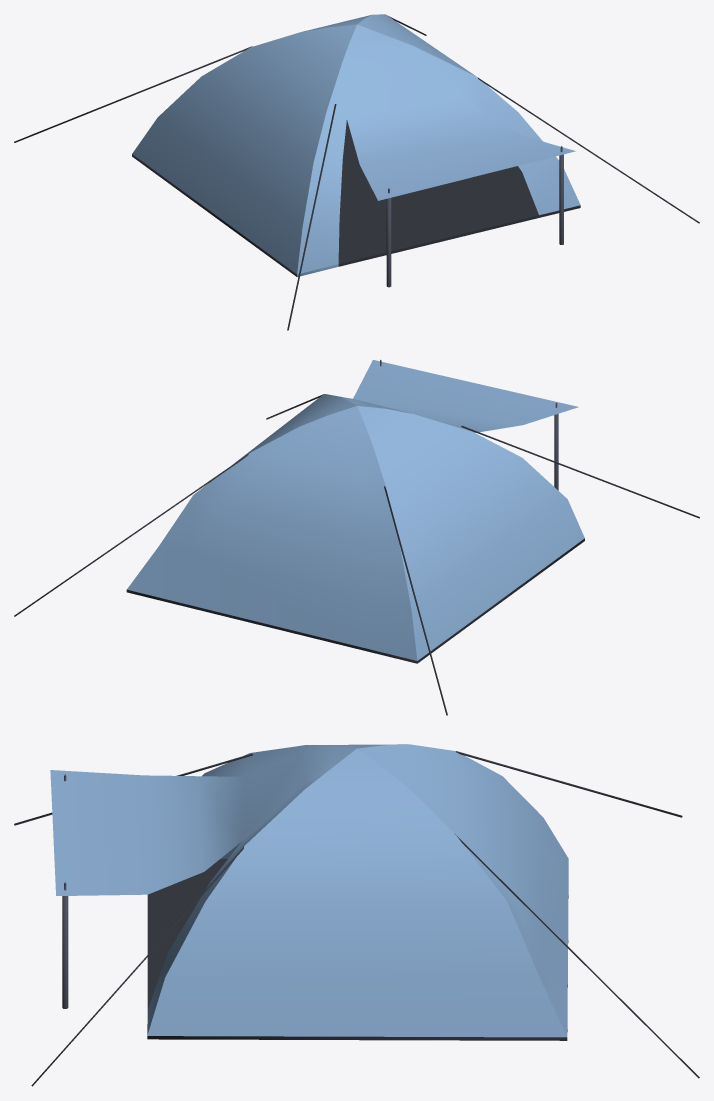
The model's file is Modern-Tent_02.fbx.
The picture shows the model from 3 angles, top to bottom: view 1: azimuth 30°, elevation 25°; view 2: azimuth 150°, elevation 25°; view 3: azimuth 270°, elevation 25°; orthographic projection. The views are drawn at different scales.
Parts seen in each view (by area): view 1: Modern-Tent_02; view 2: Modern-Tent_02; view 3: Modern-Tent_02.
Boxes of the visible parts, x1,y1,x2,y2 form: Modern-Tent_02: [14, 14, 699, 330]; Modern-Tent_02: [14, 359, 699, 715]; Modern-Tent_02: [14, 744, 699, 1086].
Size of the model in its own units: 3.96 by 1.39 by 4.26.
